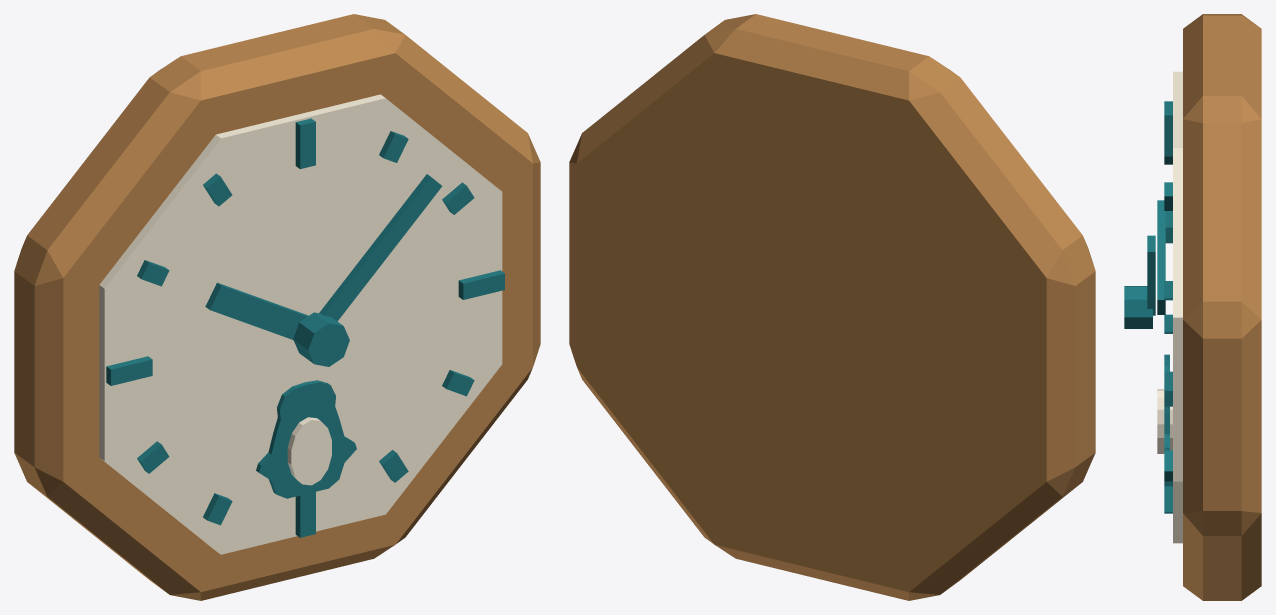
The model's file is wall_clock.glb.
3 views of the same model, side by side, from view 1: azimuth 30°, elevation 25°; view 2: azimuth 150°, elevation 25°; view 3: azimuth 270°, elevation 25° (orthographic). The views are drawn at different scales.
Visible parts, largest first — view 1: wall_clock, part_hand_minute, part_hand_hour; view 2: wall_clock; view 3: wall_clock, part_hand_hour, part_hand_minute.
Part boxes in pixels (x1,y1,x2,y2): wall_clock: (14,14,540,600); part_hand_minute: (319,174,442,321); part_hand_hour: (205,282,308,339); wall_clock: (569,14,1095,600); wall_clock: (1124,14,1261,600); part_hand_hour: (1157,200,1165,314); part_hand_minute: (1147,235,1155,315).
Size of the model in its own units: 0.388 by 0.388 by 0.096.
